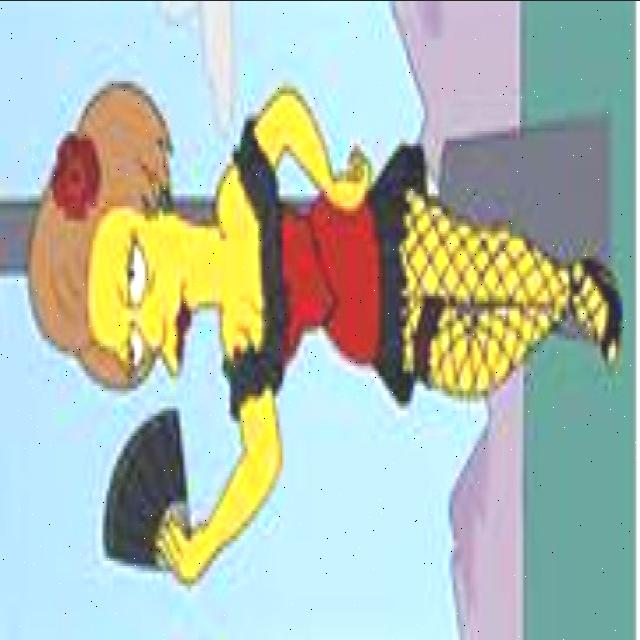Edna Krappel: (28, 75, 220, 395)
